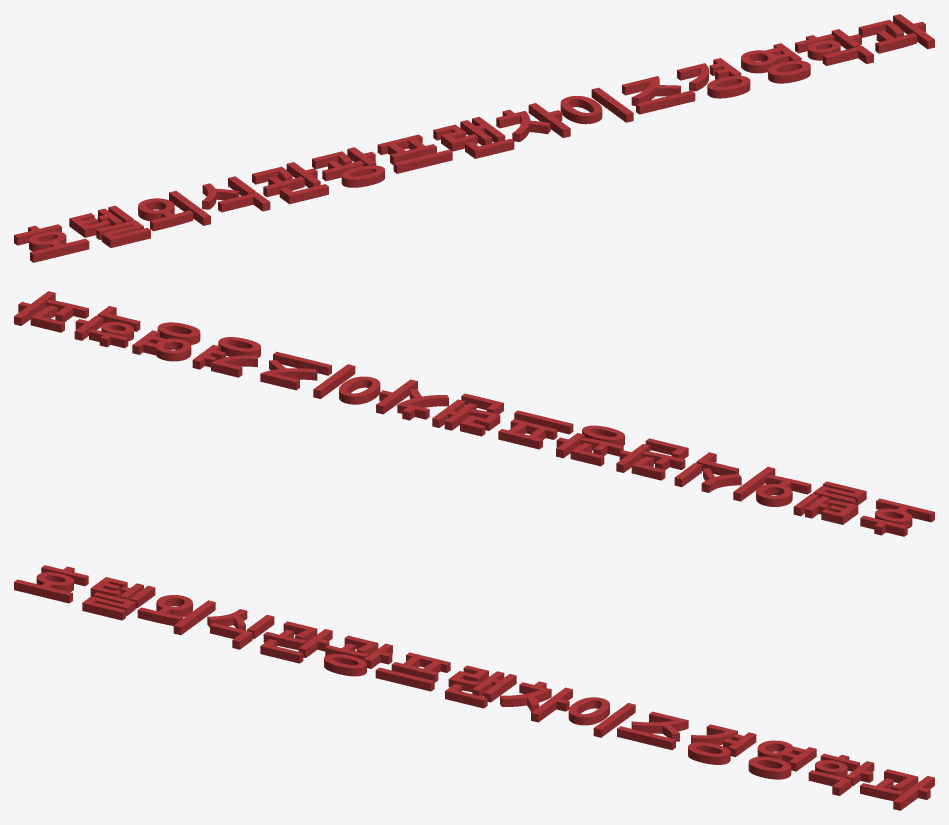
The model's file is true2.fbx.
3 views of the same model, one above another, from view 1: azimuth 30°, elevation 25°; view 2: azimuth 150°, elevation 25°; view 3: azimuth 330°, elevation 25° (orthographic).
Parts seen in each view (by area): view 1: Text; view 2: Text; view 3: Text.
Boxes of the visible parts, x1,y1,x2,y2 form: Text: (14,14,934,262); Text: (14,291,934,536); Text: (14,565,934,810).
Size of the model in its own units: 1150 by 9.8 by 77.52.
